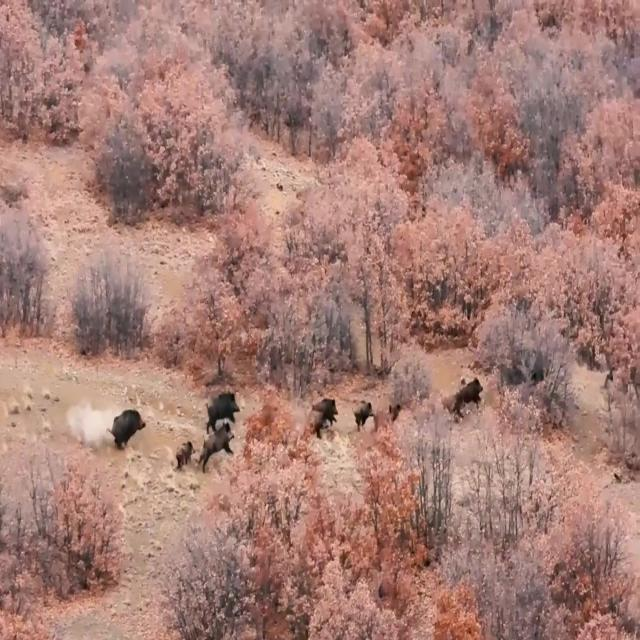pig: (109, 399, 154, 462), (195, 420, 236, 480), (455, 378, 487, 434), (201, 378, 239, 425), (312, 391, 340, 433), (173, 427, 194, 473), (354, 389, 369, 434)
